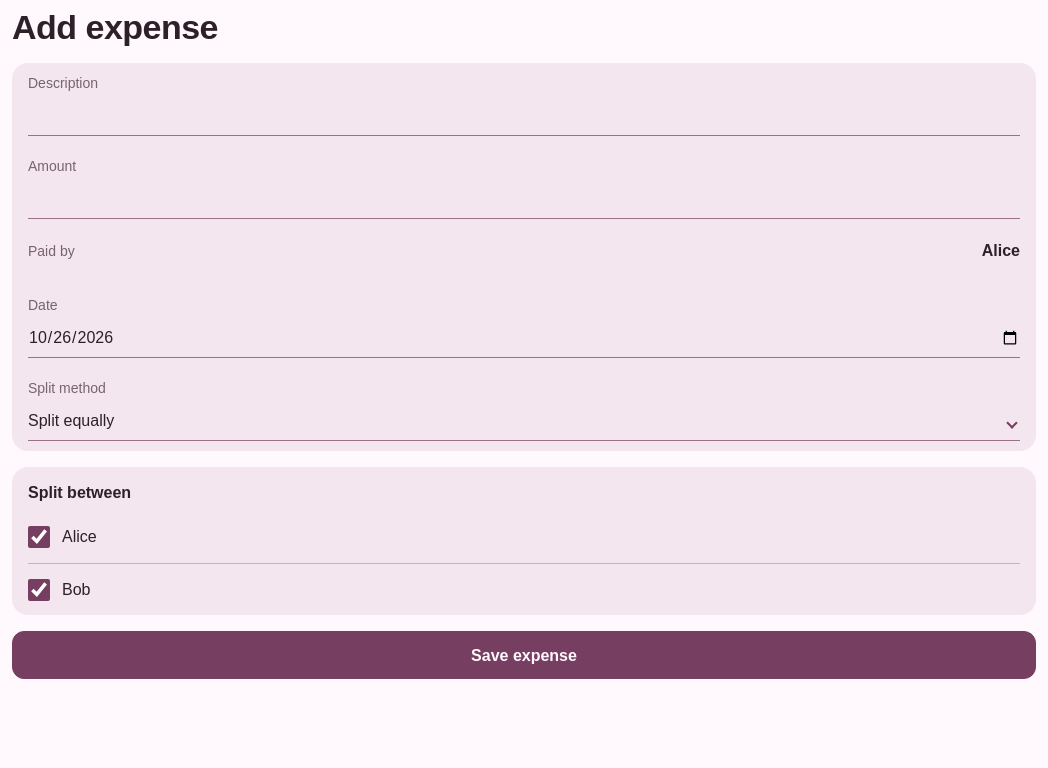
Scenario: ExpenseEditorPage › offline drafts › shows a persistent server failure (save_failed) as an error instead of waiting to sync
The image size is (1048, 768).
Type "Dinner" into the field labelled "Description".
click(524, 116); type("Dinner")  # box 28,96 -> 1020,136
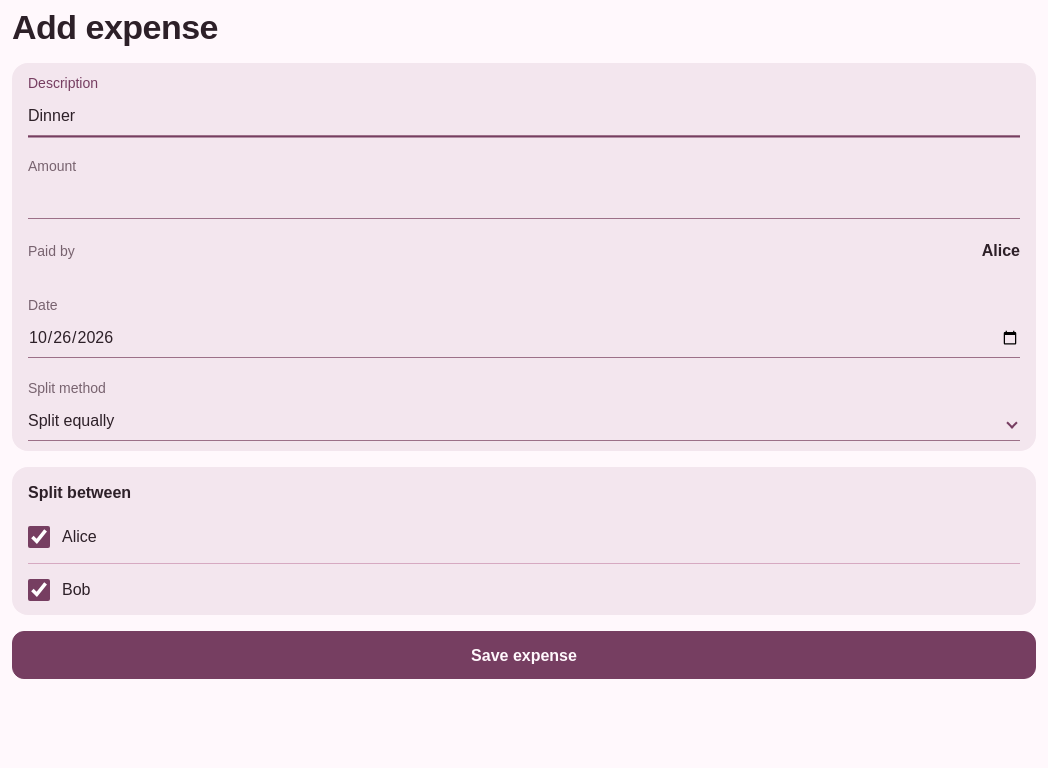
Type "10.01" into the field labelled "Amount".
click(524, 199); type("10.01")  # box 28,179 -> 1020,219
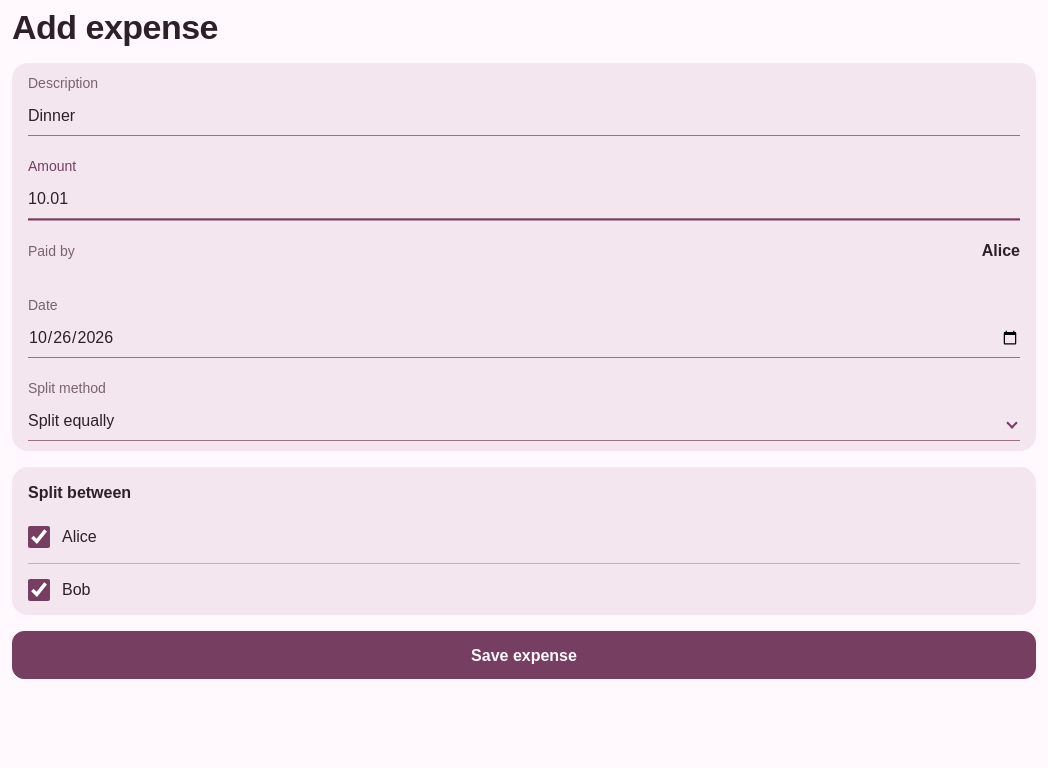
Click the button "Save expense".
click(524, 655)  # box 12,631 -> 1036,679
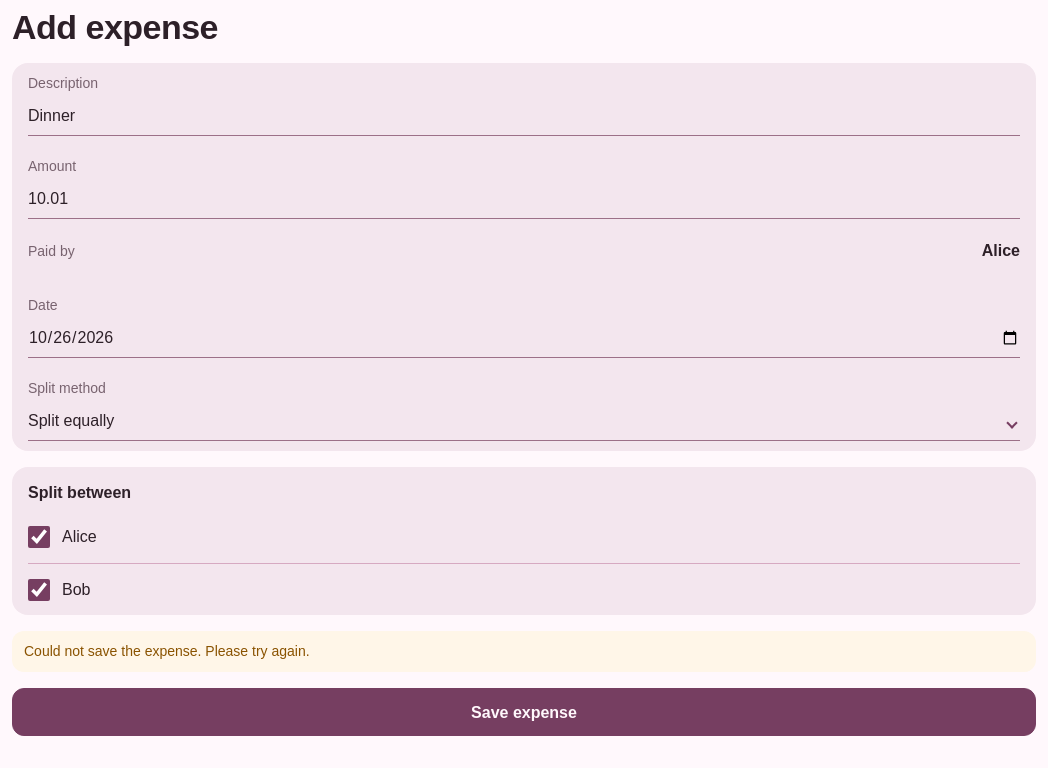
Expected: the message reads "Could not save the expense. Please try again.", 24,643 -> 310,659
